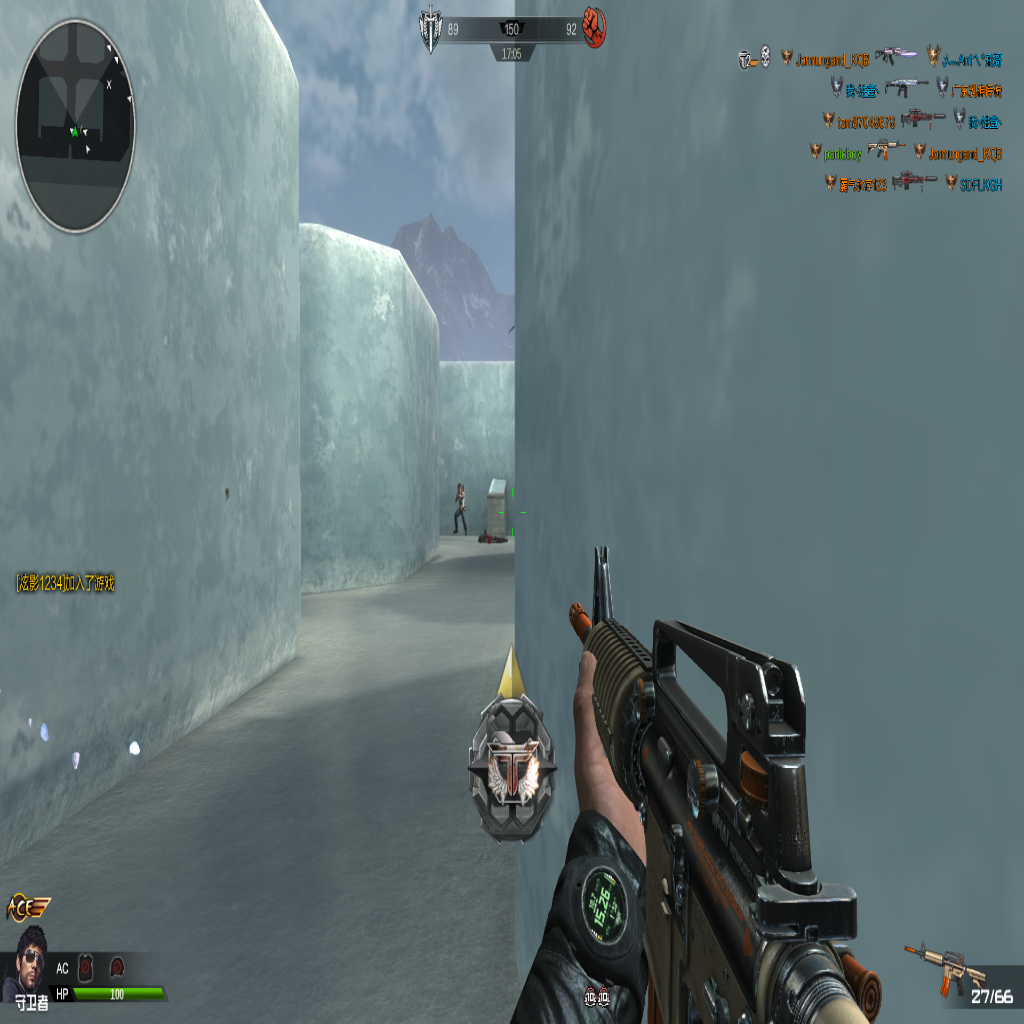tt: (452, 480, 468, 537)
